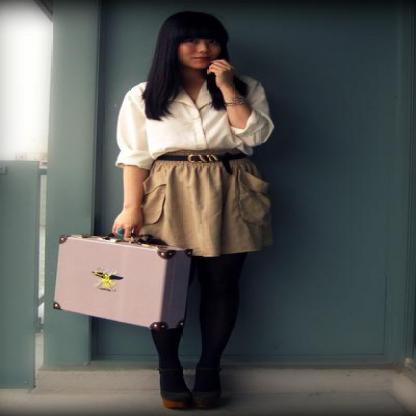bag: (38, 234, 198, 329)
shirt: (116, 79, 274, 174)
shoe: (165, 384, 233, 411)
skirt: (129, 147, 272, 256)
